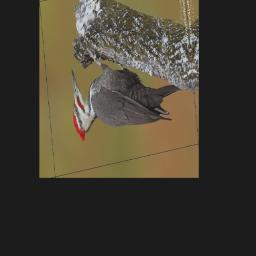Woodpecker: (67, 29, 187, 145)
